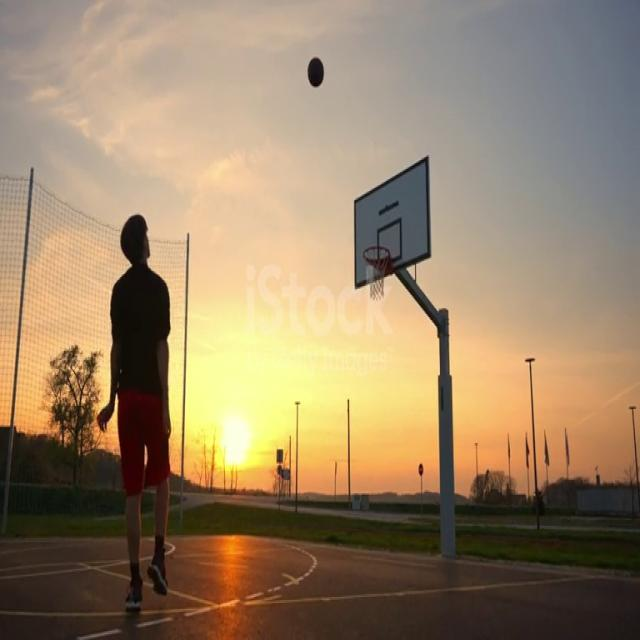ball: (307, 56, 326, 86)
